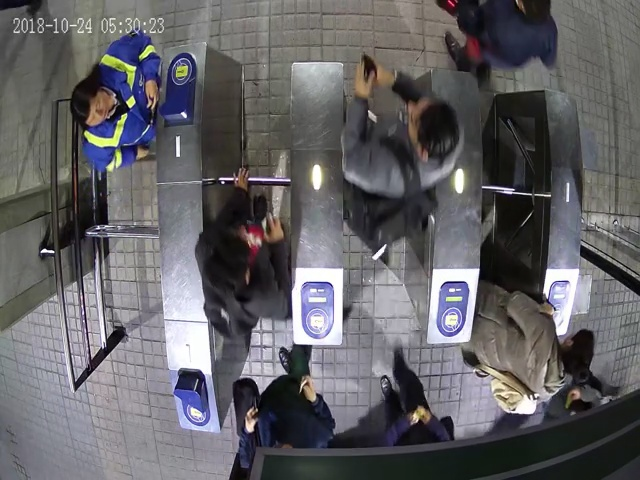Chaleco_azul: (71, 26, 162, 171)
